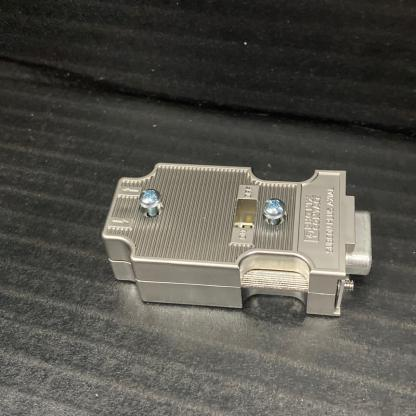SP0000010: (77, 116, 416, 366)
